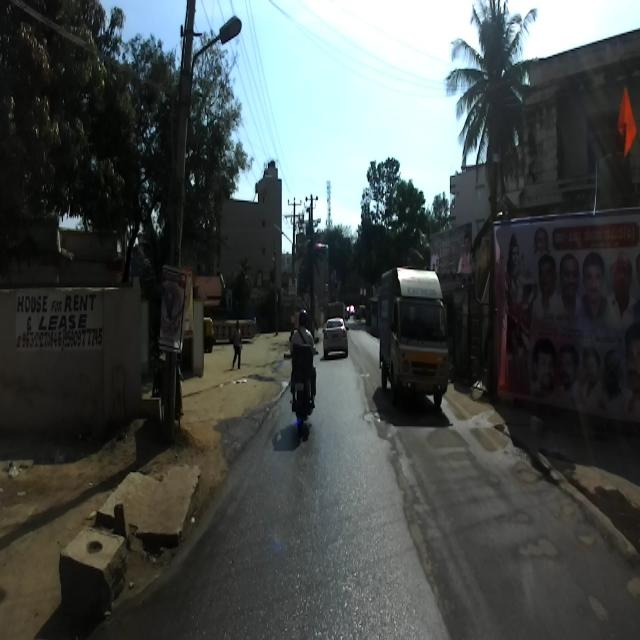Car_Maruti-Suzuki: (322, 315, 348, 357)
motorcycle_Honda: (290, 331, 319, 430)
truck: (378, 264, 448, 405)
